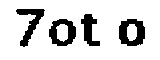7: (10, 8, 47, 48)
o: (114, 16, 148, 51), (48, 17, 78, 48)
t: (79, 11, 103, 51)
